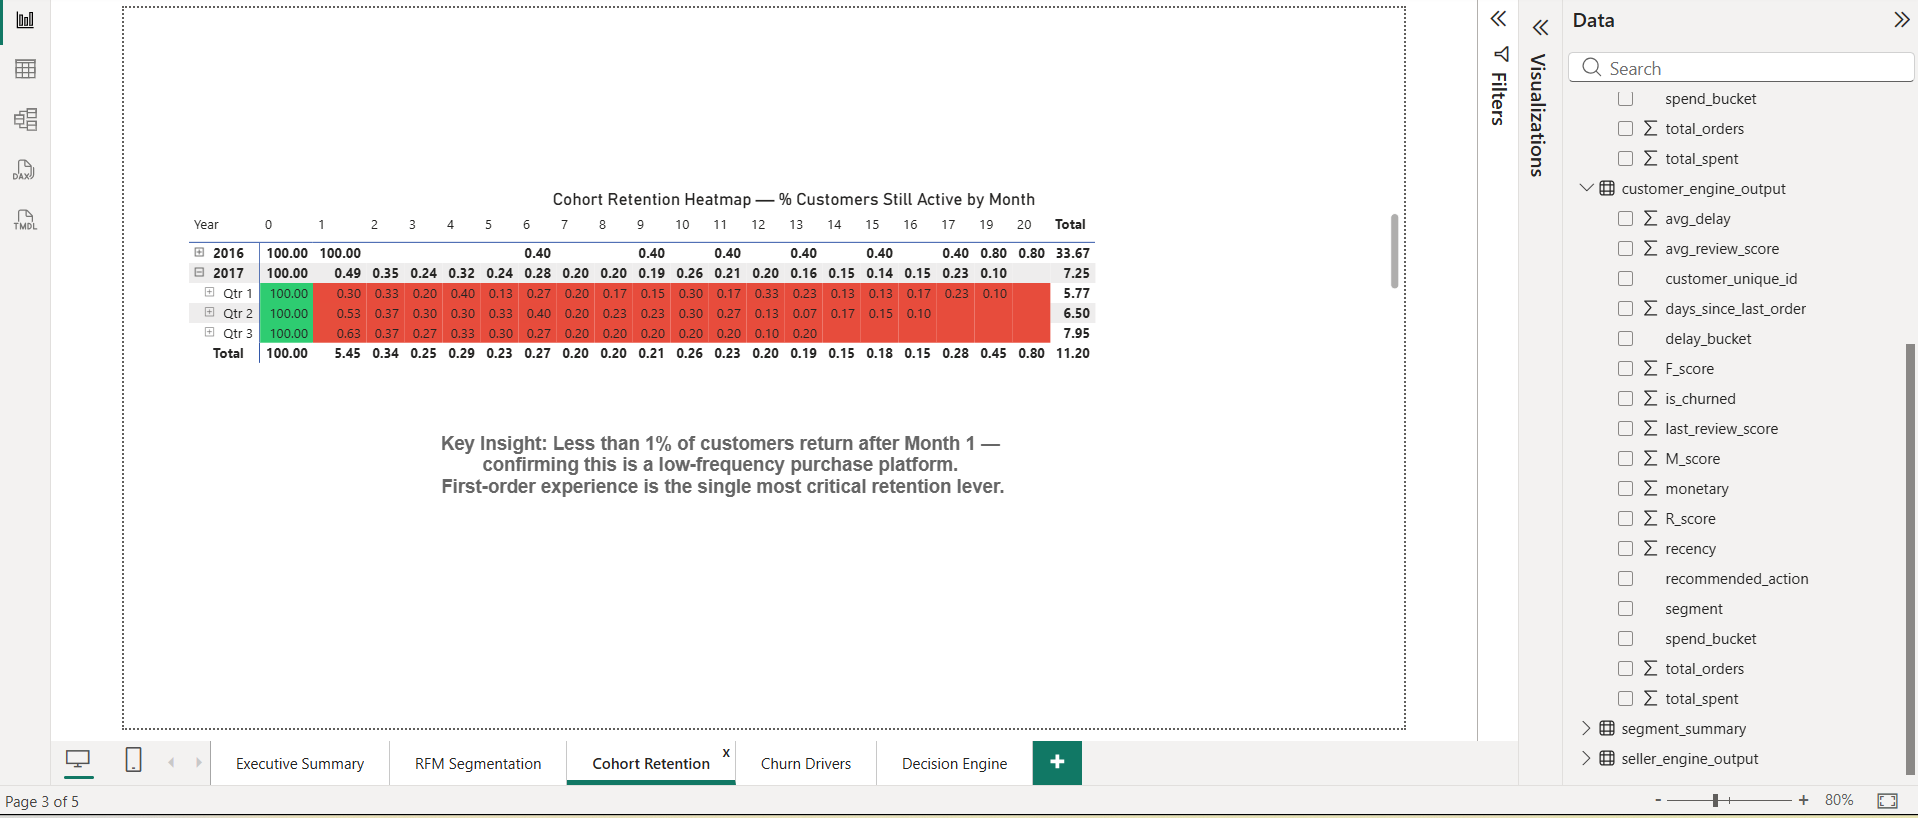

The page's visual inventory and layout, read from the dashboard file:
{"tool":"powerbi","page":{"name":"Cohort Retention","canvas":[1280,720],"ordinal":2},"visuals":[{"type":"pivotTable","title":"Cohort Retention Heatmap — % Customers Still Active by Month","fields":{"Rows":["cohort_retention_long.cohort_month.Variation.Date Hierarchy.Year","cohort_retention_long.cohort_month.Variation.Date Hierarchy.Quarter","cohort_retention_long.cohort_month.Variation.Date Hierarchy.Month","cohort_retention_long.cohort_month.Variation.Date Hierarchy.Day"],"Columns":["cohort_retention_long.cohort_index"],"Values":["Avg(cohort_retention_long.retention_pct)"]},"box":[60,181.2,1220,178.8],"z":0},{"type":"textbox","box":[262.5,420,672.5,81.2],"z":1}]}

Visuals, with their boxes on the page's 1280x720 design canvas (x1, y1, x2, y2). These are canvas units, not pixel positions in the 1918x818 screenshot, which may show the page scaled, cropped or inside an application window:
"Cohort Retention Heatmap — % Customers Still Active by Month" pivotTable: [60,181,1280,360]
textbox: [262,420,935,501]
